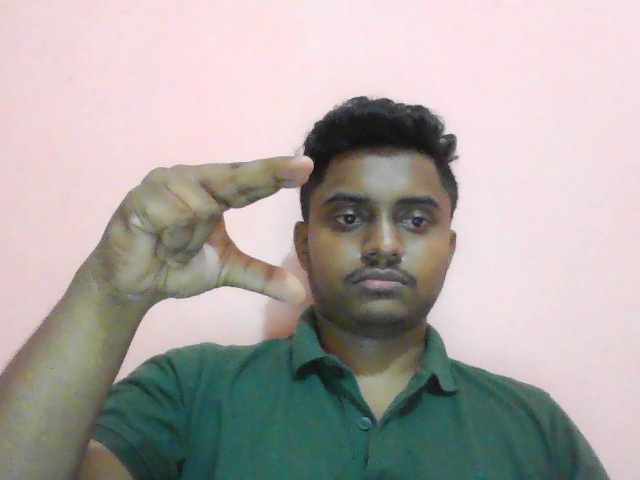No: (89, 128, 321, 316)
